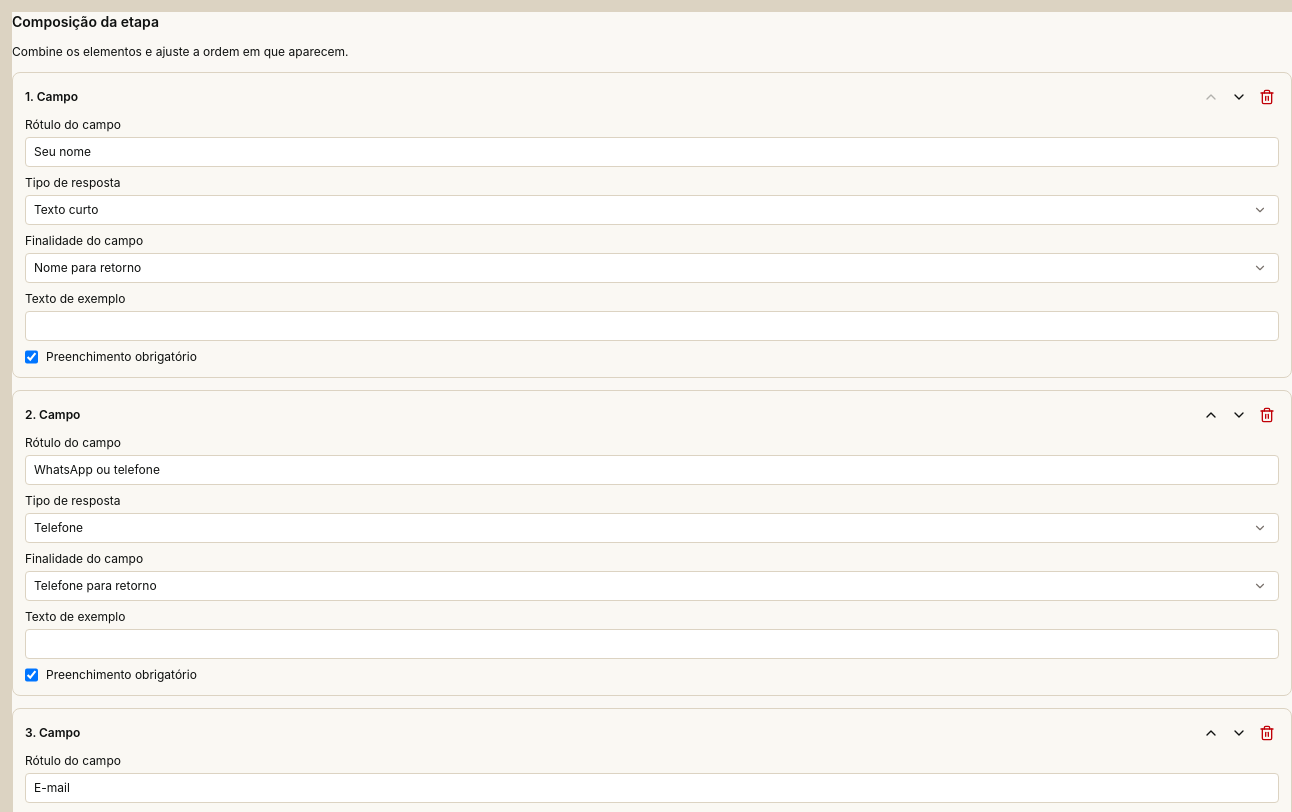
Test: Etapa livre editável › abre contato antigo como campos editáveis, permite mudar finalidade, rótulo, ordem e remover
Replace the text in the 1st field labelled "Rótulo do campo" with "Como você prefere ser chamado?" at (652, 152), box [25,137,1279,167]
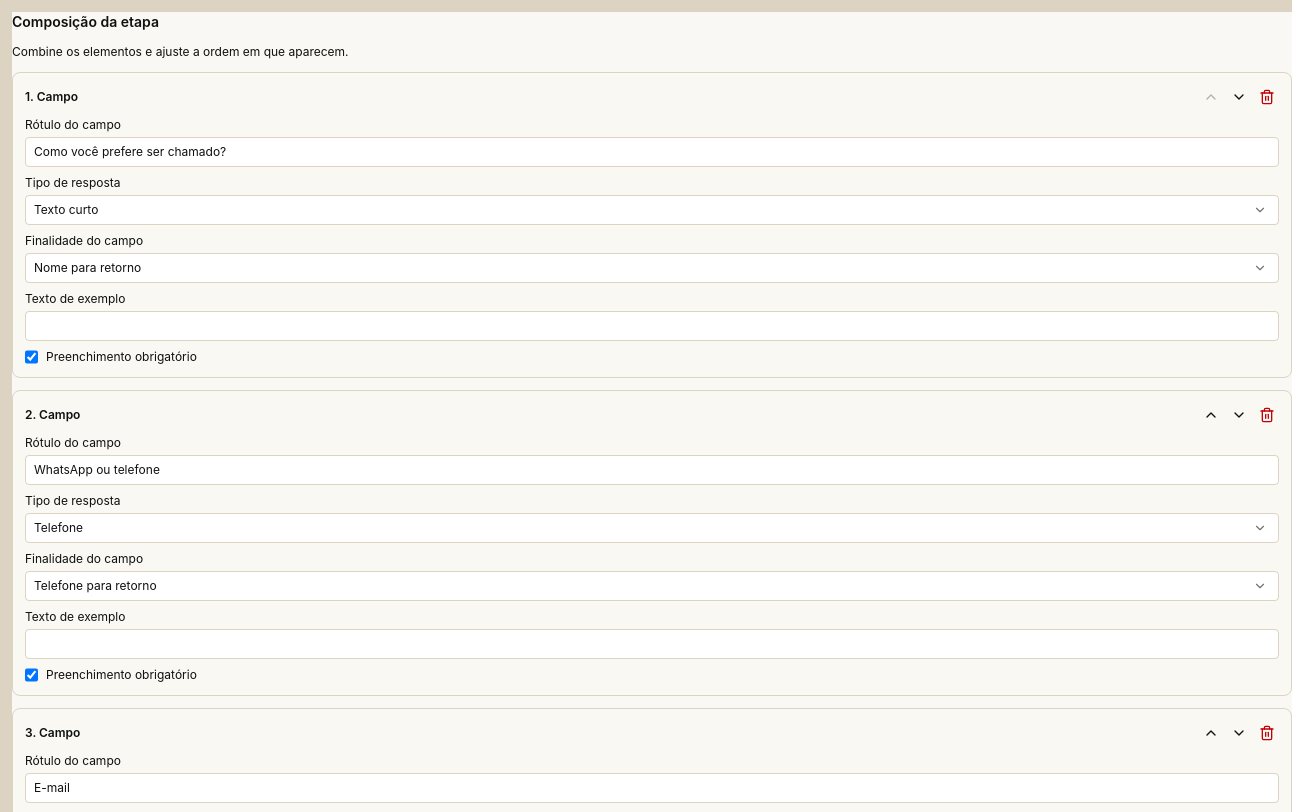
Expected: the 2nd dropdown labelled "Finalidade do campo" shows "Telefone para retorno", [25,571,1279,601]
Click the button named "Remover elemento 3" at (1267, 733), box [1255,721,1279,745]
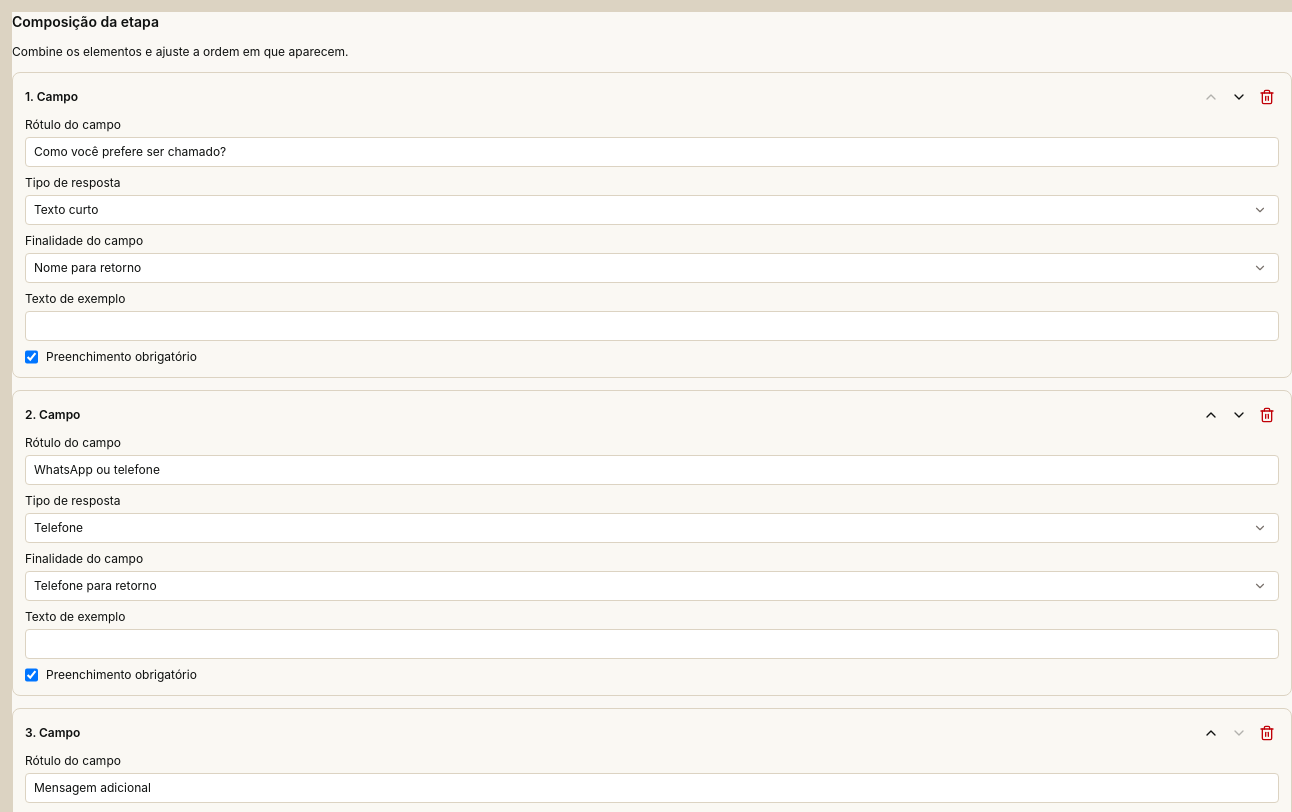
Expected: the number of fields labelled "Rótulo do campo" is 3, [25,137,1279,167]; [25,455,1279,485]; [25,773,1279,803]
